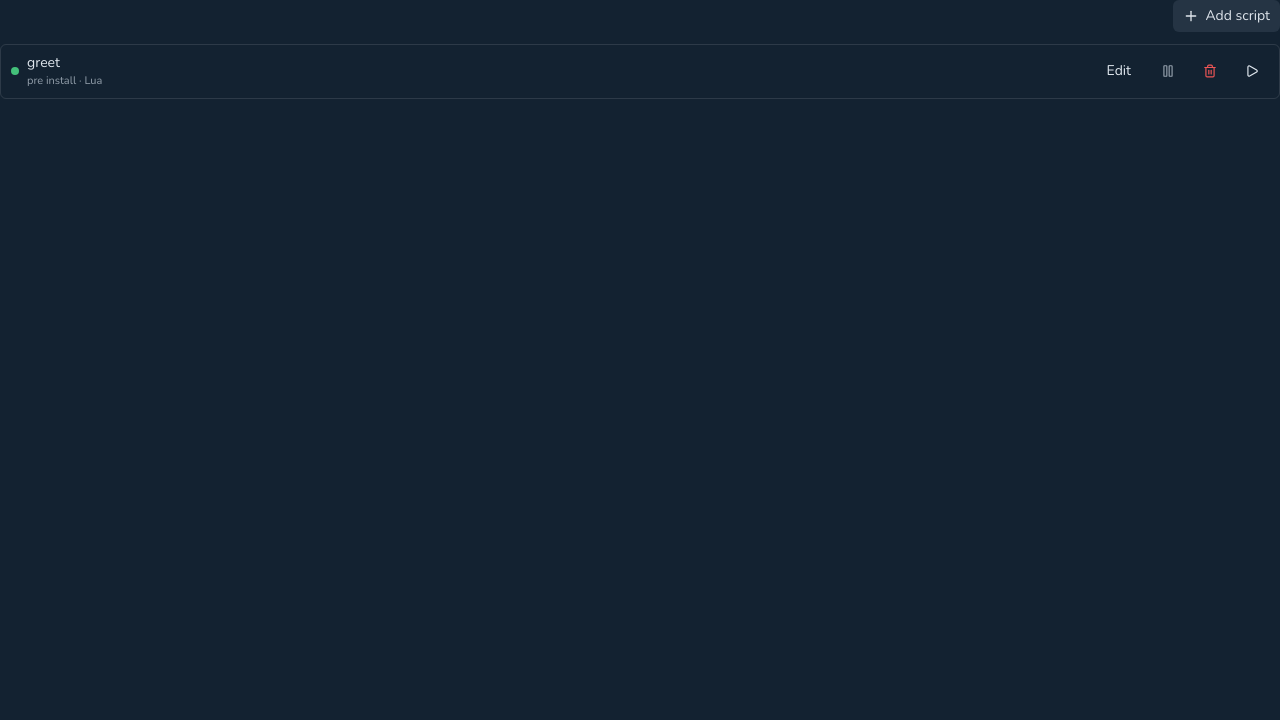
ModHooksEditor › prints what the script writes
The width and height of the screenshot is (1280, 720).
What coordinates should you click on to do the following:
click the button "Edit"
I would click on:
 (1119, 71)
Its box is left=1095, top=55, right=1143, bottom=87.
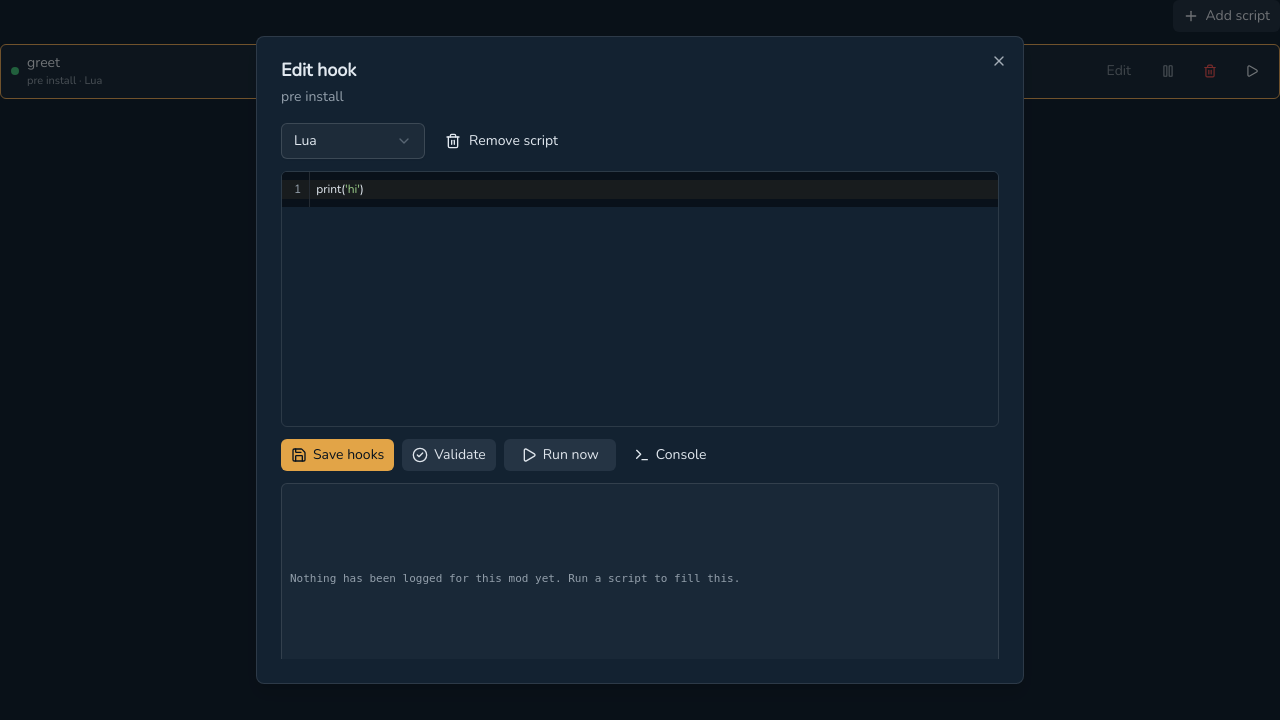
What coordinates should you click on to do the following:
click the button "Run now"
I would click on:
 (560, 455)
Its box is left=504, top=439, right=616, bottom=471.
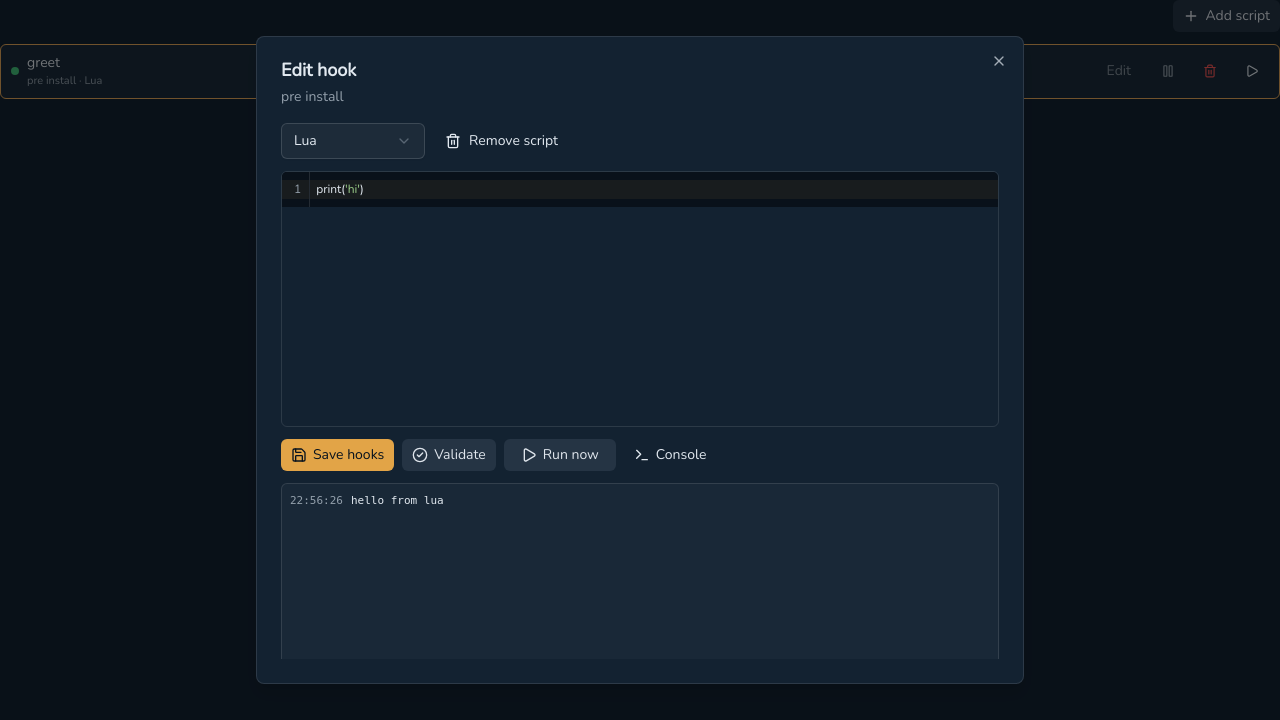
Expected: the text "hello from lua" is shown, left=351, top=492, right=444, bottom=510
